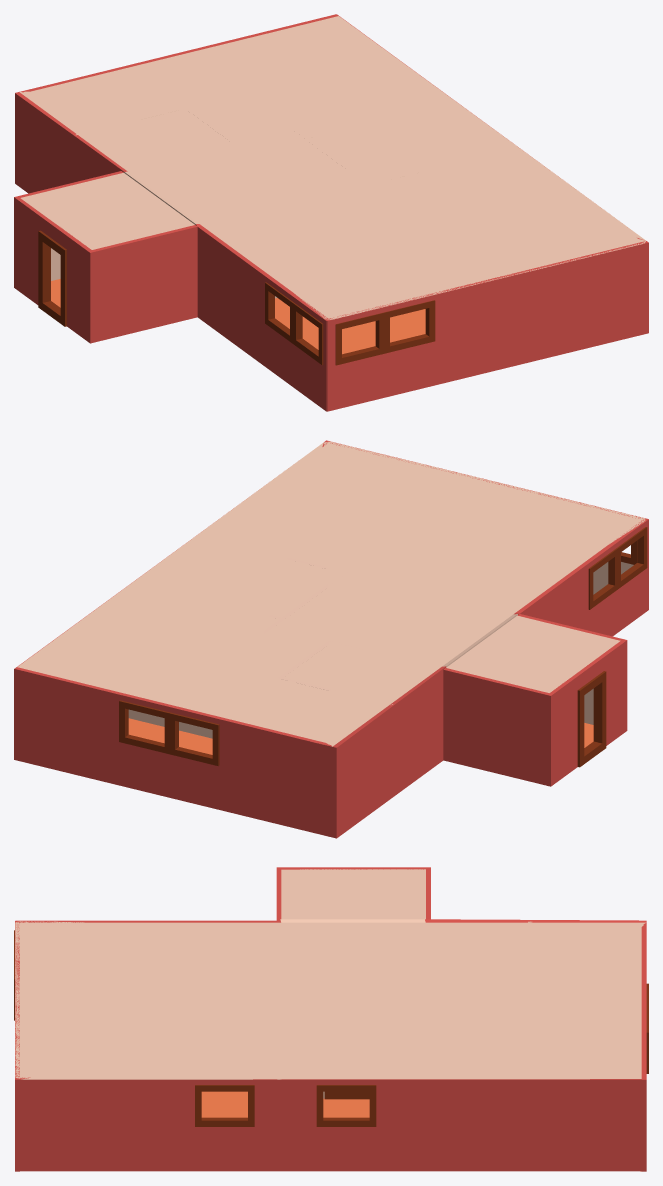
File: model_stage_House.fbx
The picture shows the model from 3 angles, top to bottom: view 1: azimuth 30°, elevation 25°; view 2: azimuth 150°, elevation 25°; view 3: azimuth 270°, elevation 25°; orthographic projection.
Parts seen in each view (by area): view 1: House; view 2: House; view 3: House.
Boxes of the visible parts, bbox=[...] form: House: bbox=[14, 14, 648, 411]; House: bbox=[14, 440, 648, 838]; House: bbox=[14, 867, 648, 1171].
Size of the model in its own units: 1000 by 203 by 1254.
